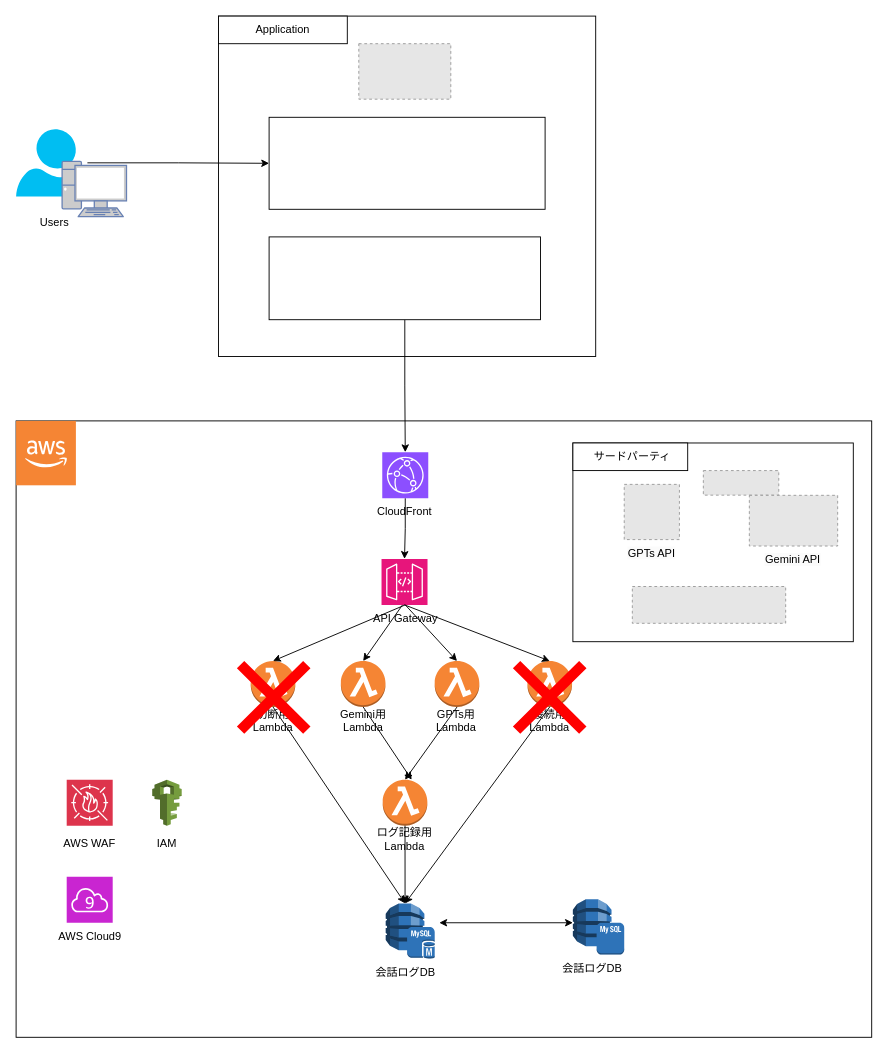
The diagram is 888 pixels wide and 1053 high, and some of its shapes have lost their labels. Grey dashed boxes stand in for pictures. The box of each missing label's shape, as (x1, y1, x2, y2) in pixels:
B ack end: (268, 236, 540, 320)
Frontend: (268, 116, 545, 209)
